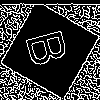B: (25, 25, 78, 69)
